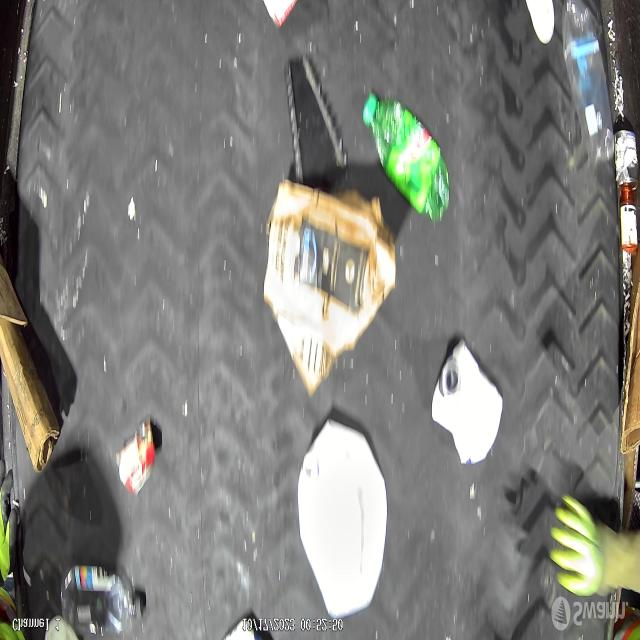can: (116, 420, 157, 498), (614, 130, 639, 191)
milk_jug: (298, 411, 389, 623)
plastic_bottle: (562, 0, 614, 165), (61, 562, 144, 632)
